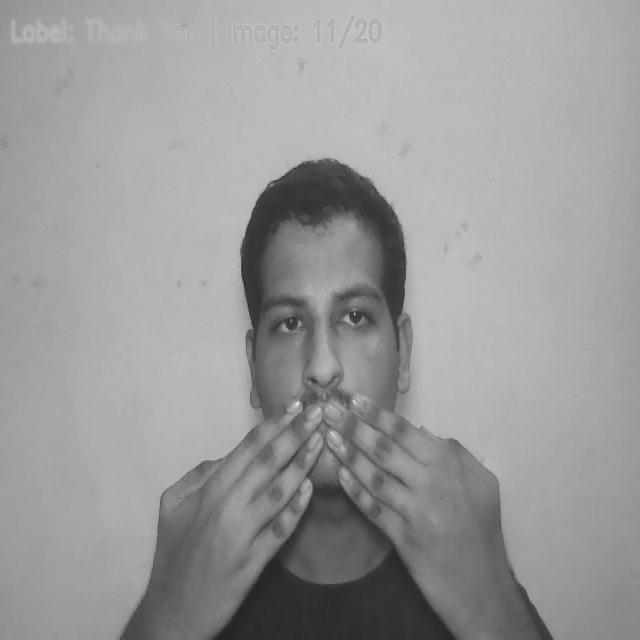Thank You: (143, 397, 502, 603)
